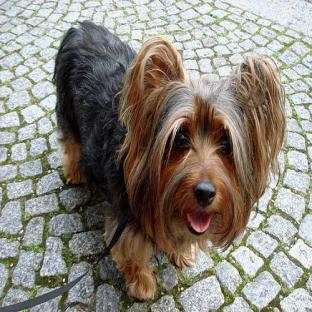Animal: (53, 22, 286, 300)
